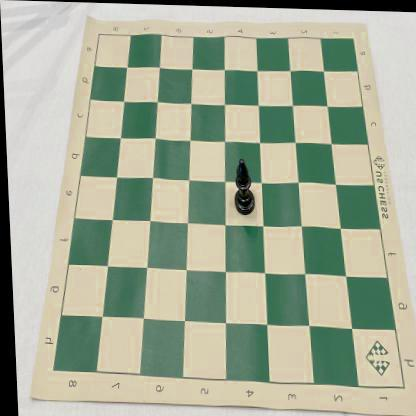black-bishop: (230, 156, 254, 215)
